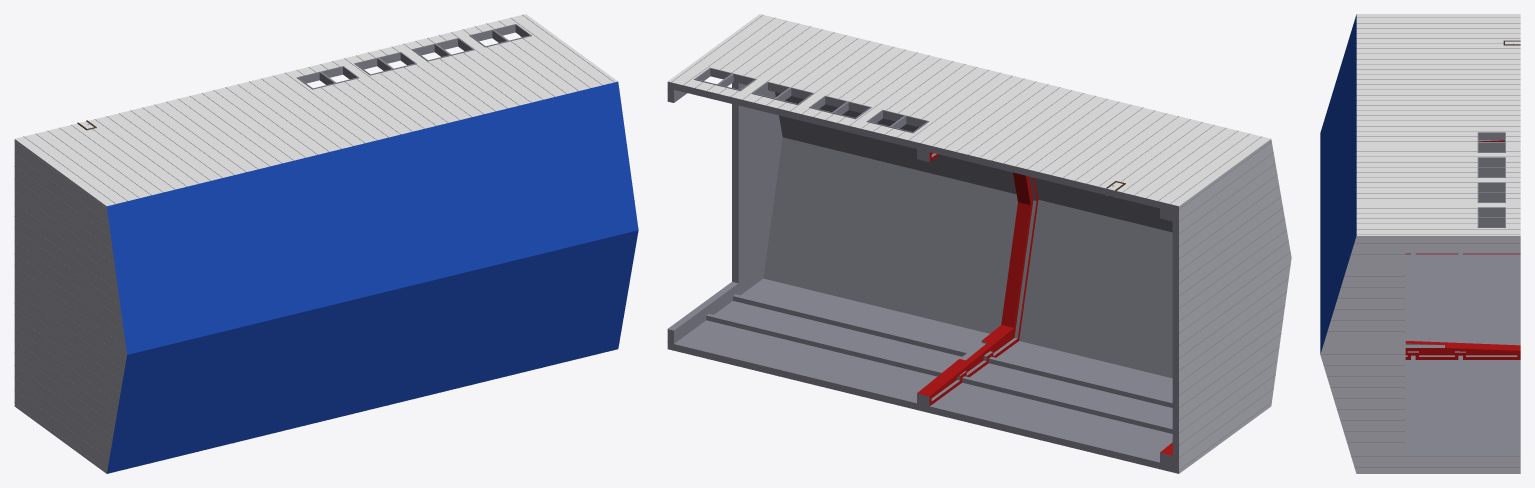
File: hangar.dae
The picture shows the model from 3 angles, left to right: view 1: azimuth 30°, elevation 25°; view 2: azimuth 150°, elevation 25°; view 3: azimuth 270°, elevation 25°; orthographic projection. The views are drawn at different scales.
Parts seen in each view (by area): view 1: Corpo1_Revestimento_(Azul), Corpo1_Revestimento_-_Bruto_(Branco), Corpo1_Aço_inoxidável_-_Escovado_linear_longo, Corpo1_Aço_-_Acetinado; view 2: Corpo1_Aço_-_Acetinado, Corpo1_Revestimento_-_Bruto_(Branco), Corpo1_Aço_inoxidável_-_Escovado_linear_longo, Corpo1_Pintura_-_Metalizada_(Vermelho); view 3: Corpo1_Revestimento_-_Bruto_(Branco), Corpo1_Aço_-_Acetinado, Corpo1_Aço_inoxidável_-_Escovado_linear_longo, Corpo1_Revestimento_(Azul), Corpo1_Pintura_-_Metalizada_(Vermelho).
Boxes of the visible parts, box(x1,y1,x2,y2) form: Corpo1_Revestimento_(Azul): box(107, 81, 638, 473); Corpo1_Revestimento_-_Bruto_(Branco): box(15, 14, 617, 205); Corpo1_Aço_inoxidável_-_Escovado_linear_longo: box(14, 139, 126, 473); Corpo1_Aço_-_Acetinado: box(14, 14, 614, 470); Corpo1_Aço_-_Acetinado: box(667, 15, 1290, 473); Corpo1_Revestimento_-_Bruto_(Branco): box(668, 14, 1270, 206); Corpo1_Aço_inoxidável_-_Escovado_linear_longo: box(1179, 139, 1291, 473); Corpo1_Pintura_-_Metalizada_(Vermelho): box(917, 152, 1172, 455); Corpo1_Revestimento_-_Bruto_(Branco): box(1356, 14, 1520, 235); Corpo1_Aço_-_Acetinado: box(1321, 17, 1520, 467); Corpo1_Aço_inoxidável_-_Escovado_linear_longo: box(1320, 236, 1520, 473); Corpo1_Revestimento_(Azul): box(1320, 14, 1356, 354); Corpo1_Pintura_-_Metalizada_(Vermelho): box(1405, 140, 1520, 359).
Size of the model in its own units: 80.06 by 30.5 by 40.13.
